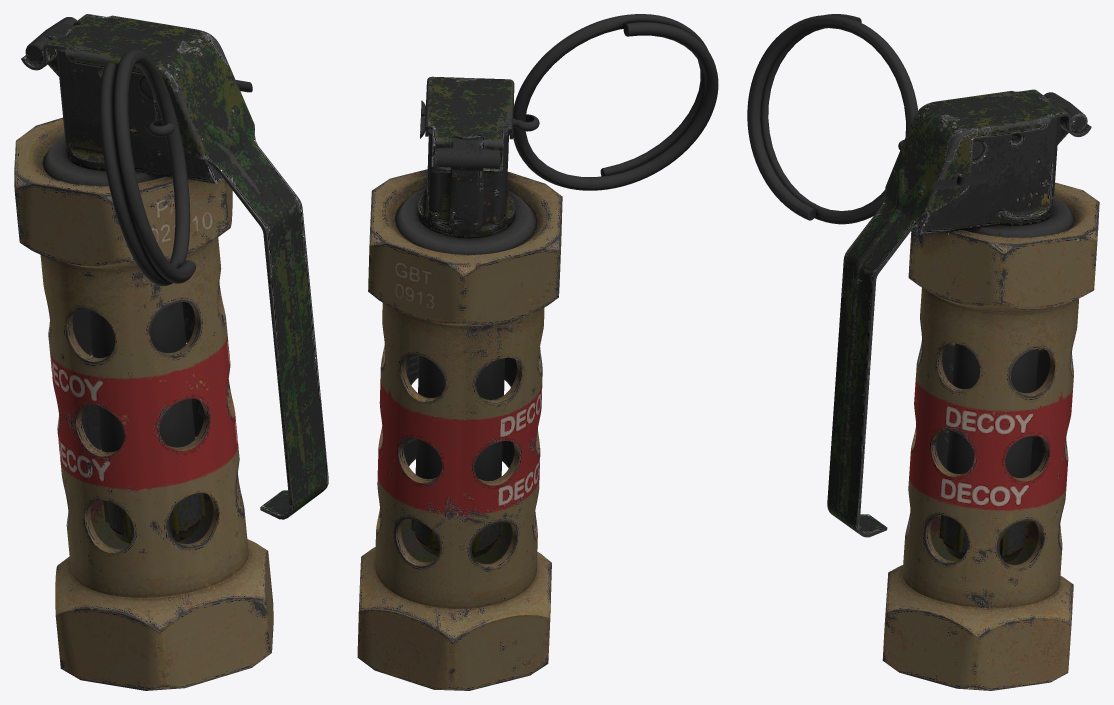
The model's file is decoy_r.glb.
3 views of the same model, side by side, from view 1: azimuth 30°, elevation 25°; view 2: azimuth 150°, elevation 25°; view 3: azimuth 270°, elevation 25° (orthographic). The views are drawn at different scales.
Parts seen in each view (by area): view 1: v_decoy_R; view 2: v_decoy_R; view 3: v_decoy_R.
Part boxes in pixels (box(x1,y1,x2,y2)): v_decoy_R: box(14, 14, 328, 690); v_decoy_R: box(357, 14, 718, 690); v_decoy_R: box(747, 14, 1099, 690).
Bounding box in the file's own units: 0.0671 × 0.1552 × 0.0834.
Materials: 1 (1 with a texture image).
